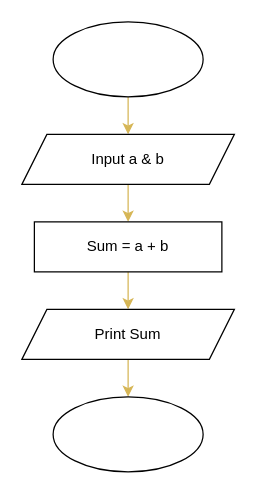
Image size: 256x494. Some labels were removed from this diagram. Here are the shapes that lost their labels. From the top down, the centre of each, then its label:
At pixel 127 59: "Start".
At pixel 127 434: "Exit".
